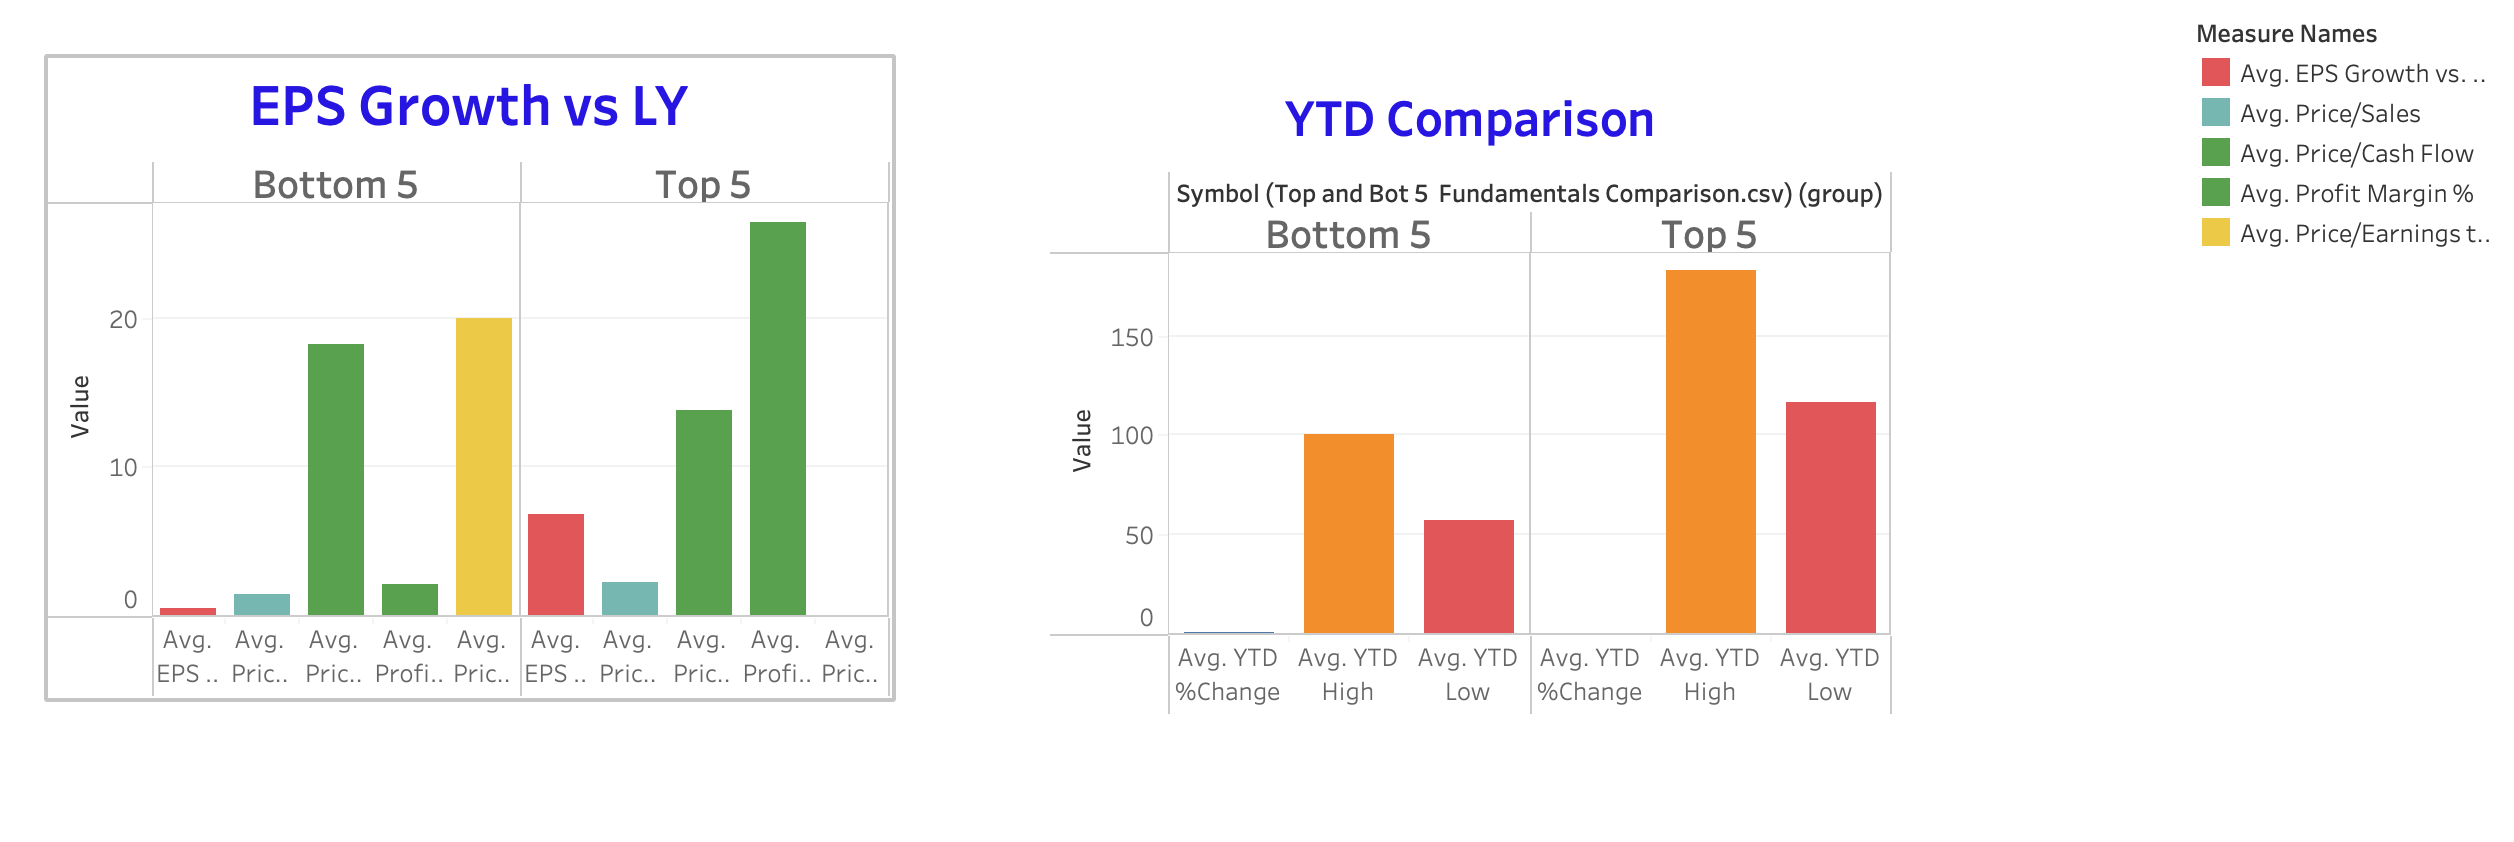

This screenshot's page, from the dashboard's own definition file:
{"tool":"tableau","page":{"name":"Board 2","canvas":[1000,1000],"units":"permille","ordinal":1},"visuals":[{"type":"legend","title":"EPS Growth vs LY","param":"[federated.0ectr3r0hx9cr31fusygr10hauid].[:Measure Names]","box":[893.7,8.3,101.2,131.2]},{"type":"worksheet","title":"EPS Growth vs LY","mark":"Automatic","box":[20.9,34.4,333.3,333.3]},{"type":"worksheet","title":"YTD Comparison","mark":"Automatic","box":[416.8,43.8,333.3,333.3]}]}

Visuals, with their boxes on the dashboard's canvas, which has no fixed pixel size, in thousandths of its width and height (x1, y1, x2, y2). These are canvas units, not pixel positions in the 2514x842 screenshot, which may show the page scaled, cropped or inside an application window:
"EPS Growth vs LY" legend: 894 8 995 140
"EPS Growth vs LY" worksheet: 21 34 354 368
"YTD Comparison" worksheet: 417 44 750 377
